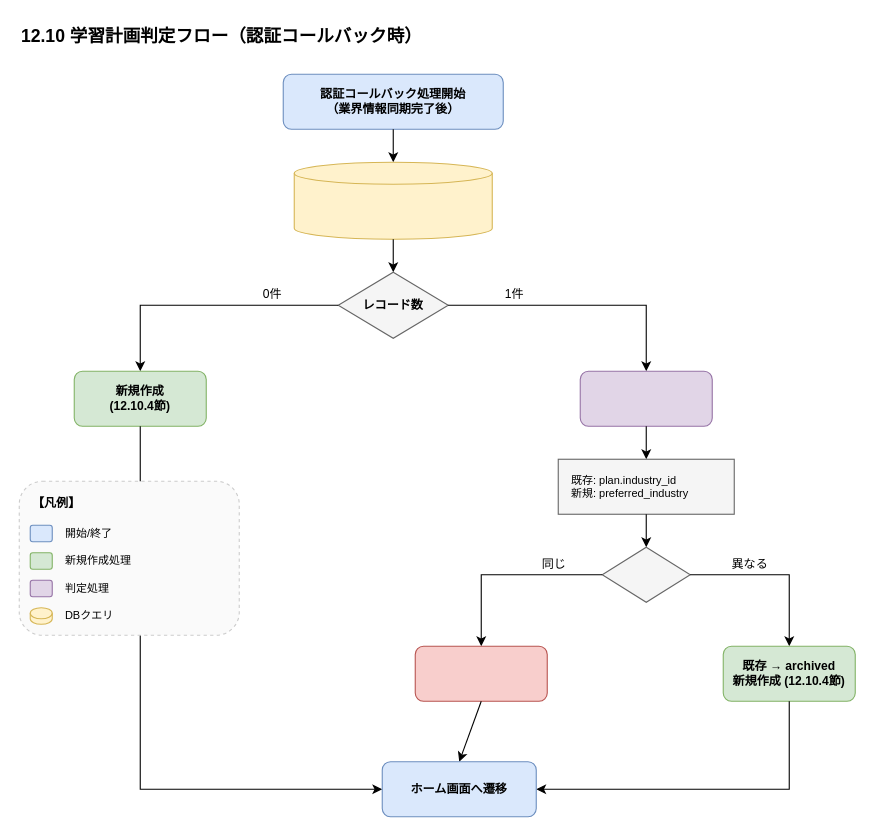
The diagram is 875 pixels wide and 836 high, and some of its shapes have lost their labels. Each missing label, with the box of its shape:
SELECT * FROM learning_plans WHERE user_id = ? AND status = 'active': (293, 161, 492, 239)
何もしない （継続）: (414, 645, 547, 701)
業界変更チェック: (579, 370, 712, 426)
